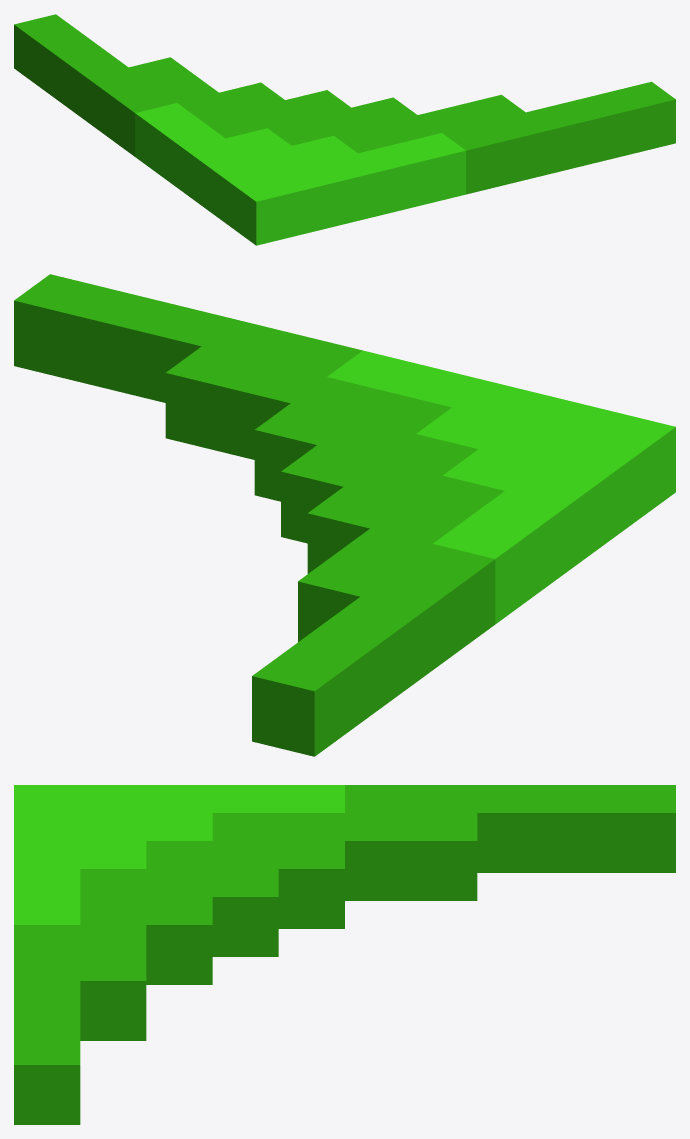
File: grass_lined_cornor_curve.obj
3 views of the same model, one above another, from view 1: azimuth 30°, elevation 25°; view 2: azimuth 150°, elevation 25°; view 3: azimuth 270°, elevation 25° (orthographic). The views are drawn at different scales.
Bounding box in the file's own units: 1 × 0.1 × 1.
1 material, 1 textured.
